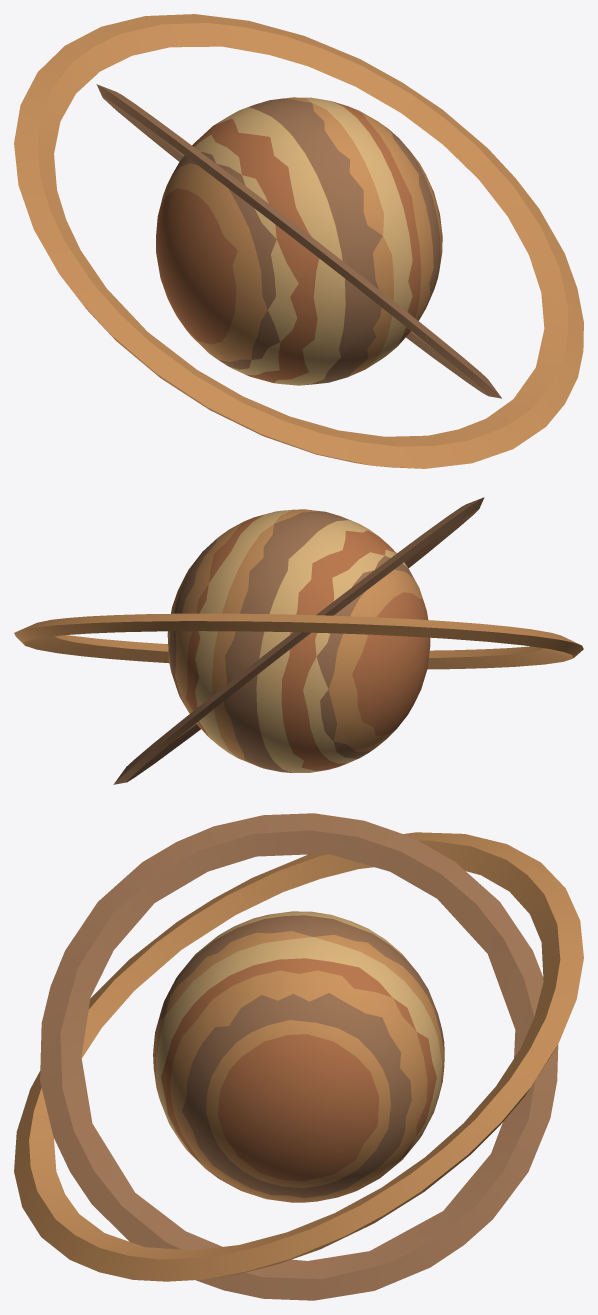
Rendered from Planet 7.glb.
3 views of the same model, one above another, from view 1: azimuth 30°, elevation 25°; view 2: azimuth 150°, elevation 25°; view 3: azimuth 270°, elevation 25° (orthographic). The views are drawn at different scales.
Visible parts, largest first — view 1: Planet_7; view 2: Planet_7; view 3: Planet_7.
Boxes of the visible parts, box(x1,y1,x2,y2) form: Planet_7: box(14, 14, 583, 468); Planet_7: box(14, 497, 583, 784); Planet_7: box(14, 813, 583, 1300).
Bounding box in the file's own units: 4.81 × 2.87 × 4.46.
Materials: 1 (1 with a texture image).
